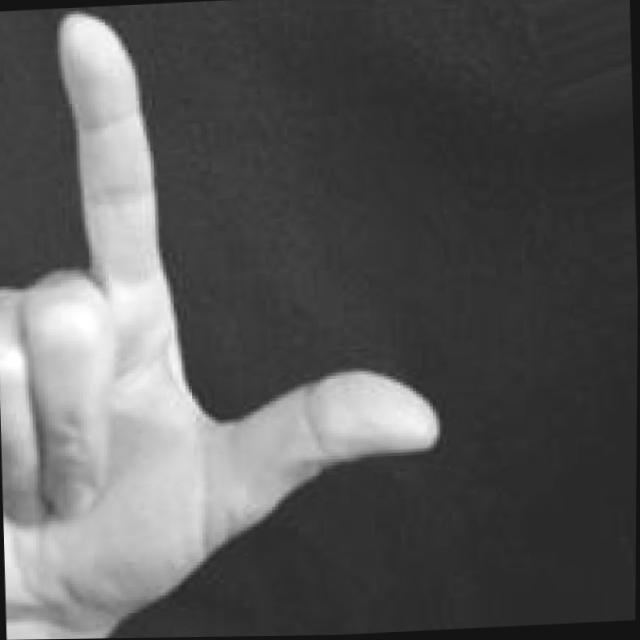L: (0, 0, 452, 640)
